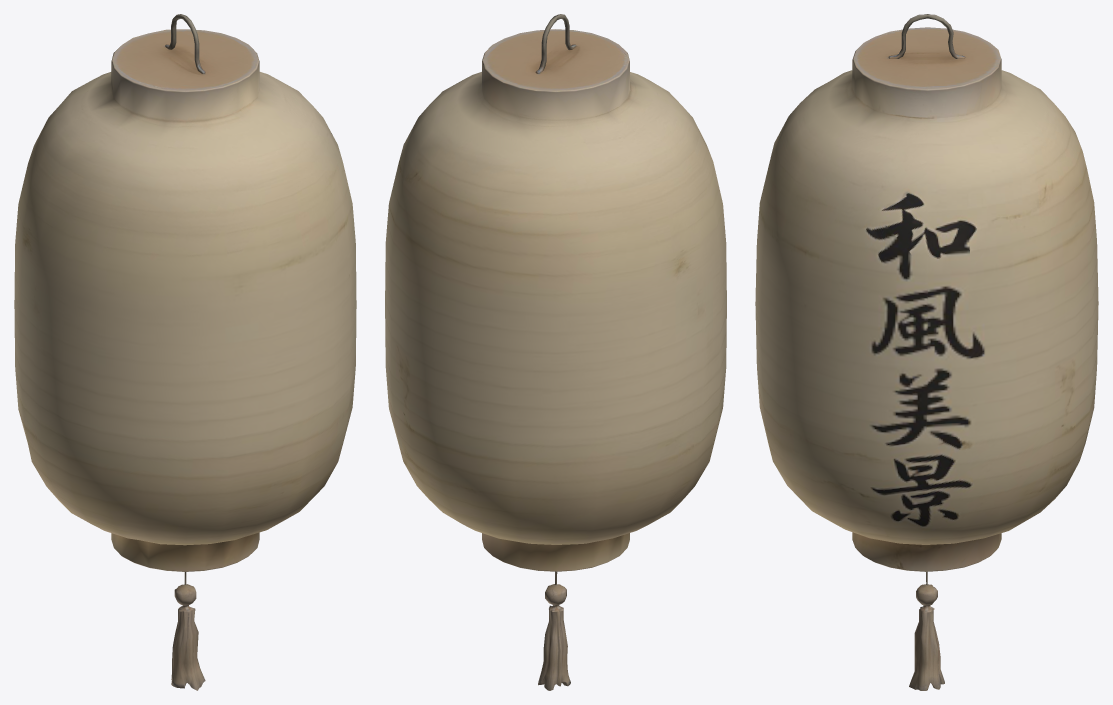
The model's file is latern1.glb.
3 renders of one model, left to right at view 1: azimuth 30°, elevation 25°; view 2: azimuth 150°, elevation 25°; view 3: azimuth 270°, elevation 25°, orthographic.
Parts seen in each view (by area): view 1: tripo_node_976403fa-bda7-4c86-9a10-07f4c2270465; view 2: tripo_node_976403fa-bda7-4c86-9a10-07f4c2270465; view 3: tripo_node_976403fa-bda7-4c86-9a10-07f4c2270465.
Part boxes in pixels (x1,y1,x2,y2): tripo_node_976403fa-bda7-4c86-9a10-07f4c2270465: (14, 14, 356, 690); tripo_node_976403fa-bda7-4c86-9a10-07f4c2270465: (385, 14, 726, 690); tripo_node_976403fa-bda7-4c86-9a10-07f4c2270465: (755, 14, 1098, 690).
Bounding box in the file's own units: 0.4629 × 0.998 × 0.4629.
Materials: 1 (1 with a texture image).
